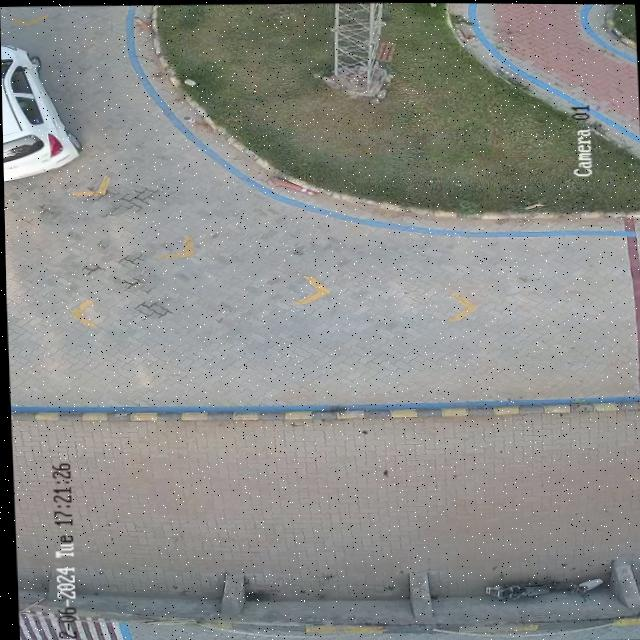car: (1, 42, 80, 180)
